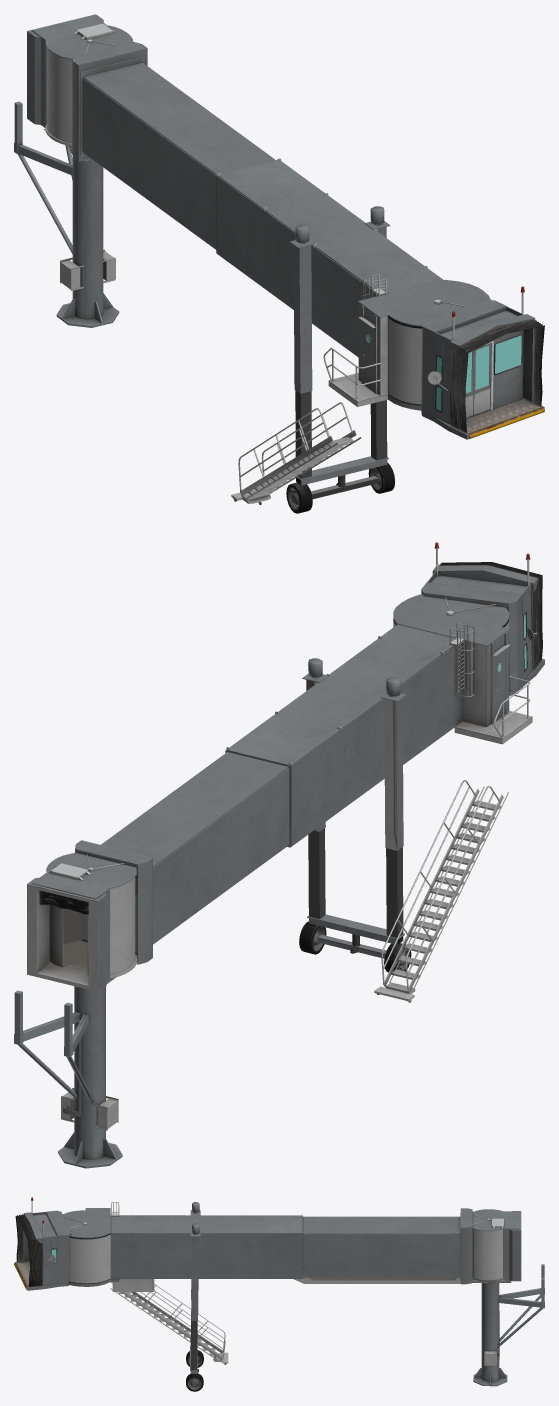
File: Jetway.glb
3 views of the same model, one above another, from view 1: azimuth 30°, elevation 25°; view 2: azimuth 150°, elevation 25°; view 3: azimuth 270°, elevation 25° (orthographic). The views are drawn at different scales.
Parts seen in each view (by area): view 1: SM_Jetway, SM_Jetway2, SM_Jetway3, SM_Jetway4, SM_Jetway6, SM_Jetway5, SM_Jetway1, SM_JetwayGlass; view 2: SM_Jetway, SM_Jetway2, SM_Jetway4, SM_Jetway3, SM_Jetway5, SM_Jetway6, SM_Jetway1; view 3: SM_Jetway, SM_Jetway2, SM_Jetway3, SM_Jetway4, SM_Jetway5, SM_Jetway1, SM_Jetway6.
Boxes of the visible parts, x1=… form: SM_Jetway: x1=82, y1=62, x2=443, y2=359; SM_Jetway2: x1=14, y1=14, x2=147, y2=327; SM_Jetway3: x1=421, y1=286, x2=544, y2=439; SM_Jetway4: x1=323, y1=279, x2=490, y2=410; SM_Jetway6: x1=286, y1=390, x2=395, y2=513; SM_Jetway5: x1=231, y1=402, x2=361, y2=504; SM_Jetway1: x1=290, y1=206, x2=390, y2=393; SM_JetwayGlass: x1=366, y1=335, x2=521, y2=410; SM_Jetway: x1=81, y1=623, x2=474, y2=954; SM_Jetway2: x1=14, y1=840, x2=152, y2=1168; SM_Jetway4: x1=393, y1=594, x2=532, y2=744; SM_Jetway3: x1=421, y1=542, x2=544, y2=695; SM_Jetway5: x1=374, y1=780, x2=508, y2=1002; SM_Jetway6: x1=299, y1=828, x2=411, y2=972; SM_Jetway1: x1=302, y1=658, x2=406, y2=850; SM_Jetway: x1=110, y1=1202, x2=460, y2=1291; SM_Jetway2: x1=460, y1=1208, x2=544, y2=1386; SM_Jetway3: x1=14, y1=1197, x2=71, y2=1290; SM_Jetway4: x1=63, y1=1208, x2=119, y2=1286; SM_Jetway5: x1=110, y1=1282, x2=228, y2=1364; SM_Jetway1: x1=190, y1=1202, x2=200, y2=1320; SM_Jetway6: x1=186, y1=1321, x2=203, y2=1391.
Bounding box in the file's own units: 4.55 × 9.21 × 25.55.
3 materials, 1 textured.
